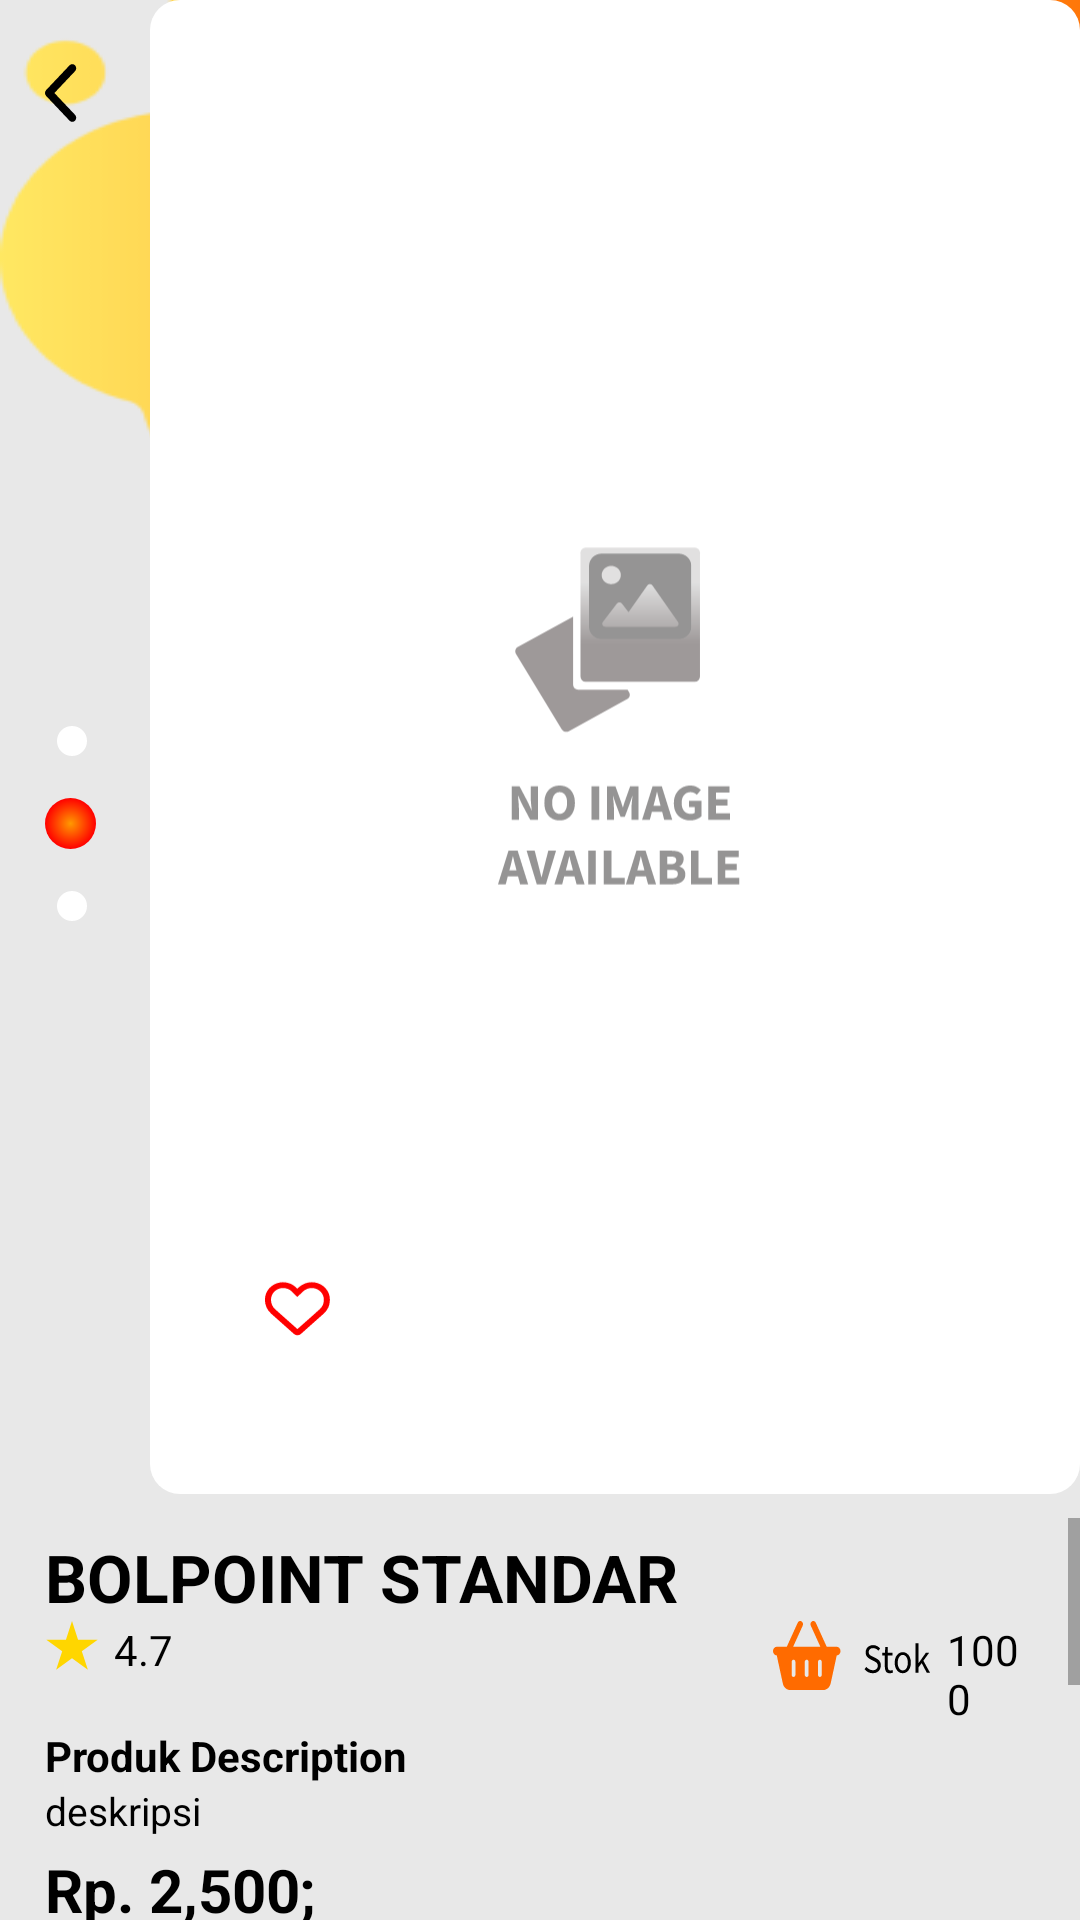

Icons on this 1080x1920 Android screen, each with the point to tap as (x,y):
back: (64,93)
star: (72,1645)
